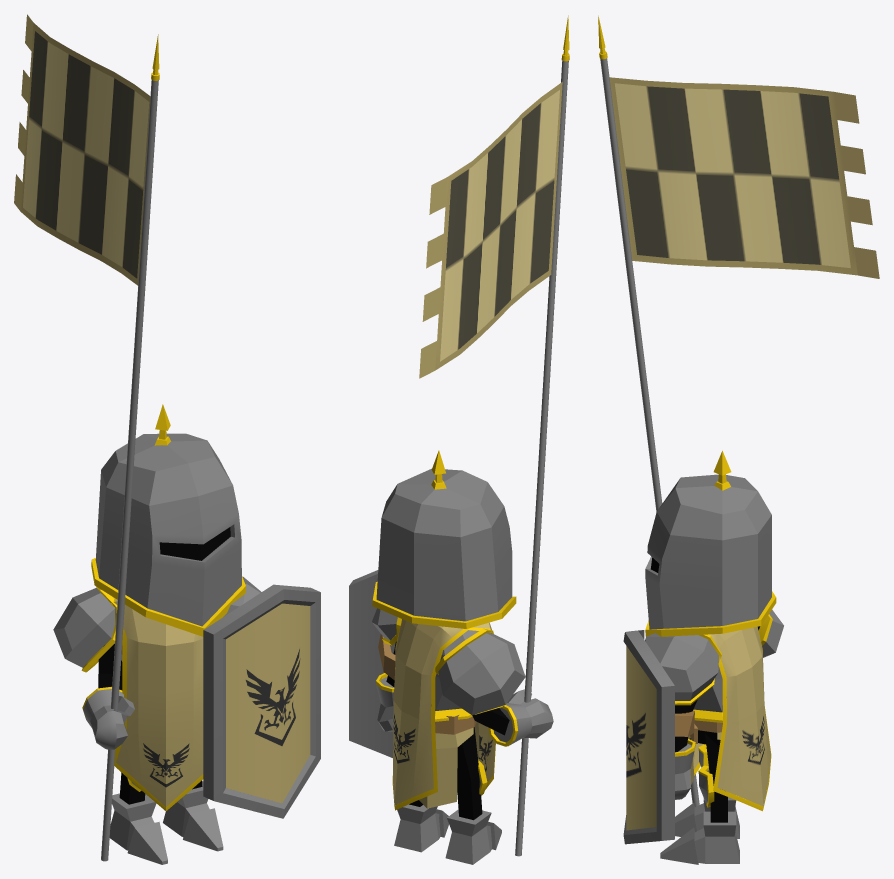
Rendered from army33.glb.
3 views of the same model, side by side, from view 1: azimuth 30°, elevation 25°; view 2: azimuth 150°, elevation 25°; view 3: azimuth 270°, elevation 25° (orthographic). The views are drawn at different scales.
Parts seen in each view (by area): view 1: Soldier_33; view 2: Soldier_33; view 3: Soldier_33.
Boxes of the visible parts, x1=… form: Soldier_33: x1=14, y1=14, x2=320, y2=864; Soldier_33: x1=349, y1=15, x2=569, y2=864; Soldier_33: x1=598, y1=15, x2=879, y2=864.
Size of the model in its own units: 1 by 3.77 by 1.2.
Materials: 10 (2 with a texture image).
